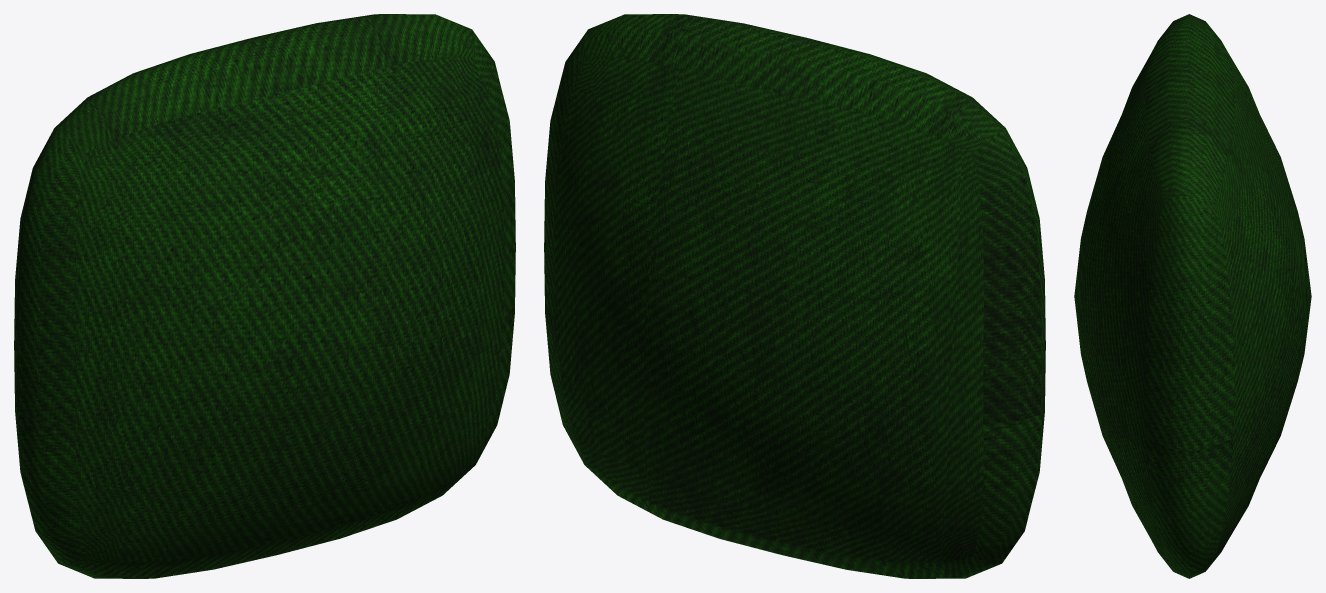
The model's file is Back_cushion.fbx.
3 views of the same model, side by side, from view 1: azimuth 30°, elevation 25°; view 2: azimuth 150°, elevation 25°; view 3: azimuth 270°, elevation 25° (orthographic). The views are drawn at different scales.
Visible parts, largest first — view 1: Back_cushion; view 2: Back_cushion; view 3: Back_cushion.
Part boxes in pixels (bbox=[...]): Back_cushion: bbox=[14, 14, 515, 578]; Back_cushion: bbox=[544, 14, 1045, 578]; Back_cushion: bbox=[1074, 14, 1311, 578].
Bounding box in the file's own units: 42.67 × 42.67 × 20.38.
